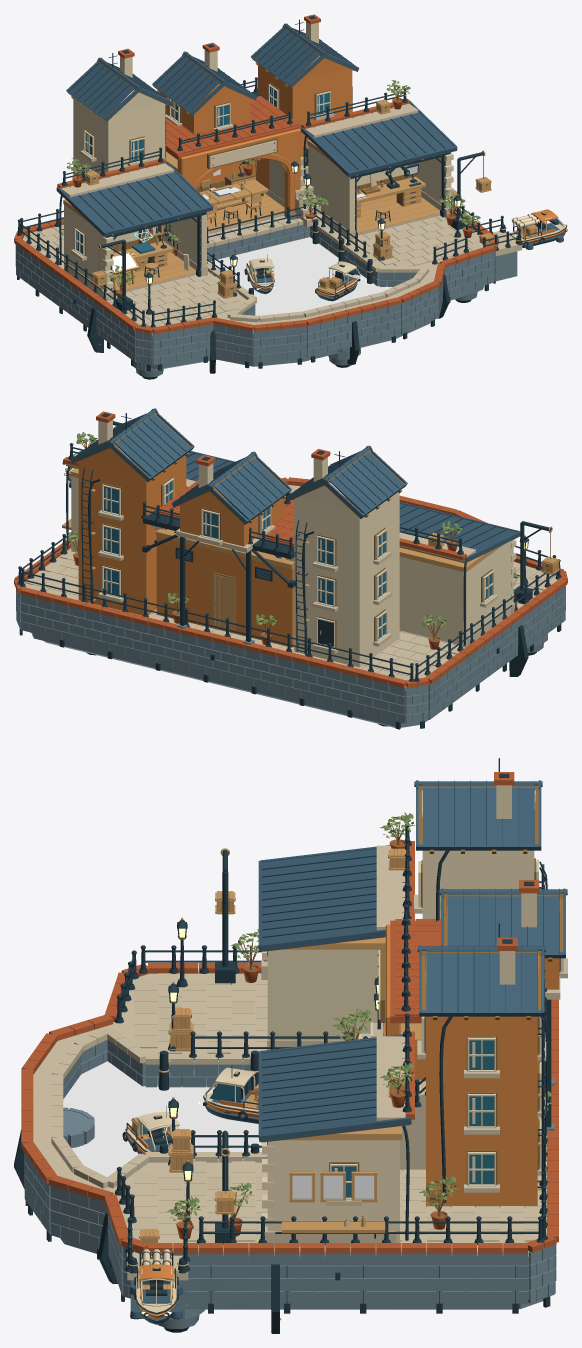
The model's file is chongzhen-refined-v2-low.glb.
3 renders of one model, top to bottom at view 1: azimuth 30°, elevation 25°; view 2: azimuth 150°, elevation 25°; view 3: azimuth 270°, elevation 25°, orthographic. The views are drawn at different scales.
Visible parts, largest first — view 1: harbor_slate, harbor_stone, harbor_stone_paving, harbor_metal, harbor_plaster_cream, harbor_plaster_clay, harbor_wood, harbor_plaster_orange, harbor_pool, harbor_wood_dark, harbor_paper (×2), harbor_glass (+3 smaller); view 2: harbor_stone, harbor_plaster_cream, harbor_plaster_orange, harbor_metal, harbor_slate, harbor_plaster_clay, harbor_stone_paving, harbor_paper, harbor_wood, harbor_wood_dark, harbor_glass, harbor_leaf (+1 smaller); view 3: harbor_slate (×2), harbor_stone_paving, harbor_stone, harbor_metal, harbor_plaster_cream, harbor_plaster_orange, harbor_plaster_clay, harbor_pool, harbor_wood, harbor_wood_dark, harbor_paper (×4), harbor_glass (+2 smaller).
Part boxes in pixels (x1,y1,x2,y2): harbor_slate: (56, 23, 457, 237); harbor_stone: (15, 212, 517, 377); harbor_stone_paving: (23, 103, 522, 335); harbor_metal: (17, 16, 522, 379); harbor_plaster_cream: (64, 21, 453, 290); harbor_plaster_clay: (14, 14, 498, 333); harbor_wood: (63, 99, 521, 298); harbor_plaster_orange: (160, 55, 352, 213); harbor_pool: (208, 237, 392, 315); harbor_wood_dark: (70, 27, 483, 293); harbor_paper (×2): (74, 84, 566, 270); harbor_glass: (76, 87, 329, 254); harbor_stone: (16, 497, 565, 727); harbor_plaster_cream: (71, 420, 516, 667); harbor_plaster_orange: (78, 445, 294, 647); harbor_metal: (17, 413, 561, 729); harbor_slate: (62, 408, 520, 580); harbor_plaster_clay: (14, 411, 567, 687); harbor_stone_paving: (24, 453, 557, 688); harbor_paper: (102, 478, 494, 647); harbor_wood: (62, 468, 559, 630); harbor_wood_dark: (66, 412, 550, 647); harbor_glass: (104, 481, 492, 646); harbor_leaf: (67, 432, 519, 625); harbor_slate (×2): (130, 780, 567, 1324); harbor_stone_paving: (33, 845, 567, 1280); harbor_stone: (24, 1039, 556, 1328); harbor_metal: (14, 758, 559, 1333); harbor_plaster_cream: (262, 785, 536, 1242); harbor_plaster_orange: (383, 898, 560, 1207); harbor_plaster_clay: (21, 772, 558, 1253); harbor_pool: (63, 1061, 261, 1176); harbor_wood: (128, 848, 421, 1266); harbor_wood_dark: (145, 785, 563, 1242); harbor_paper (×4): (126, 859, 563, 1312); harbor_glass: (332, 862, 560, 1197).
Size of the model in its own units: 20.15 by 10.01 by 13.39.
